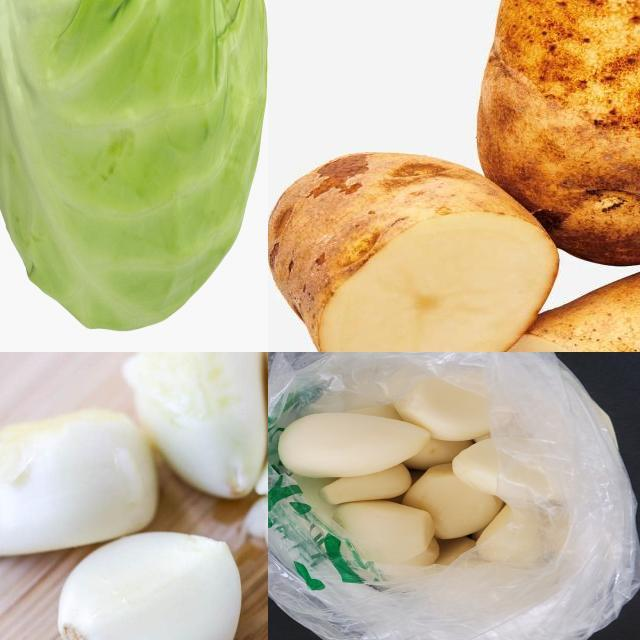cabbage: (1, 1, 269, 339)
garlic: (280, 368, 508, 566), (1, 405, 164, 563), (56, 528, 248, 640), (129, 353, 268, 502)
potato: (269, 153, 565, 353), (486, 1, 640, 264)
